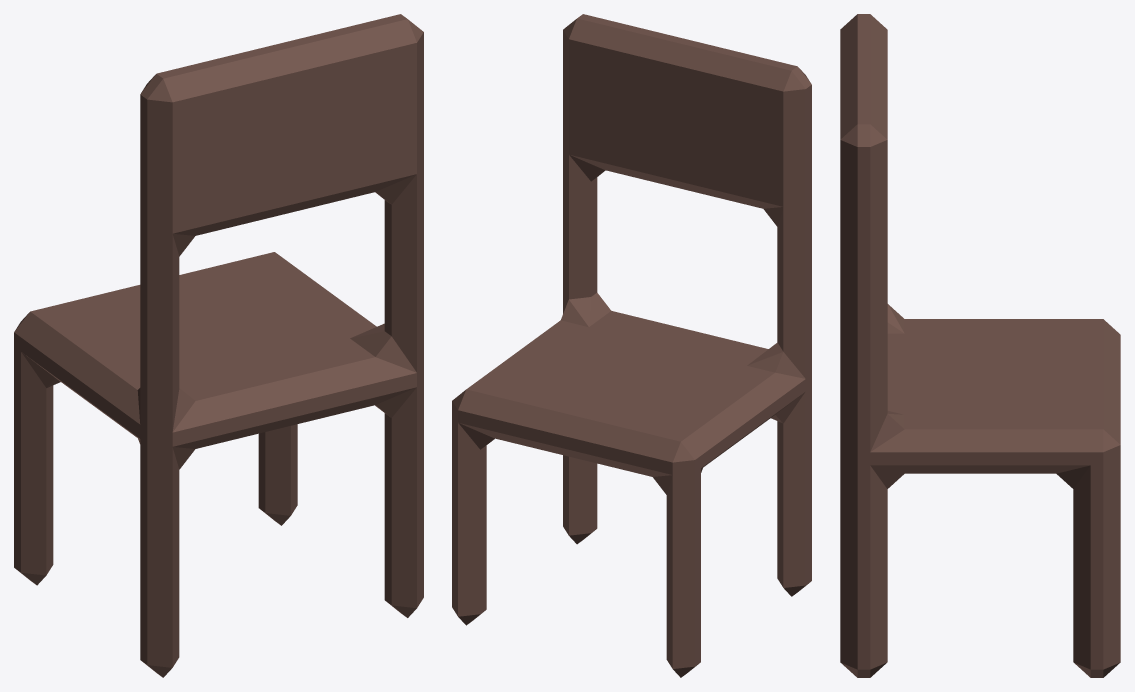
The model's file is chair.fbx.
3 renders of one model, left to right at view 1: azimuth 30°, elevation 25°; view 2: azimuth 150°, elevation 25°; view 3: azimuth 270°, elevation 25°, orthographic. The views are drawn at different scales.
Visible parts, largest first — view 1: Chair; view 2: Chair; view 3: Chair.
Boxes of the visible parts, x1,y1,x2,y2 form: Chair: [14, 14, 423, 677]; Chair: [452, 14, 811, 677]; Chair: [840, 14, 1120, 677].
Size of the model in its own units: 59.28 by 123 by 56.29.
